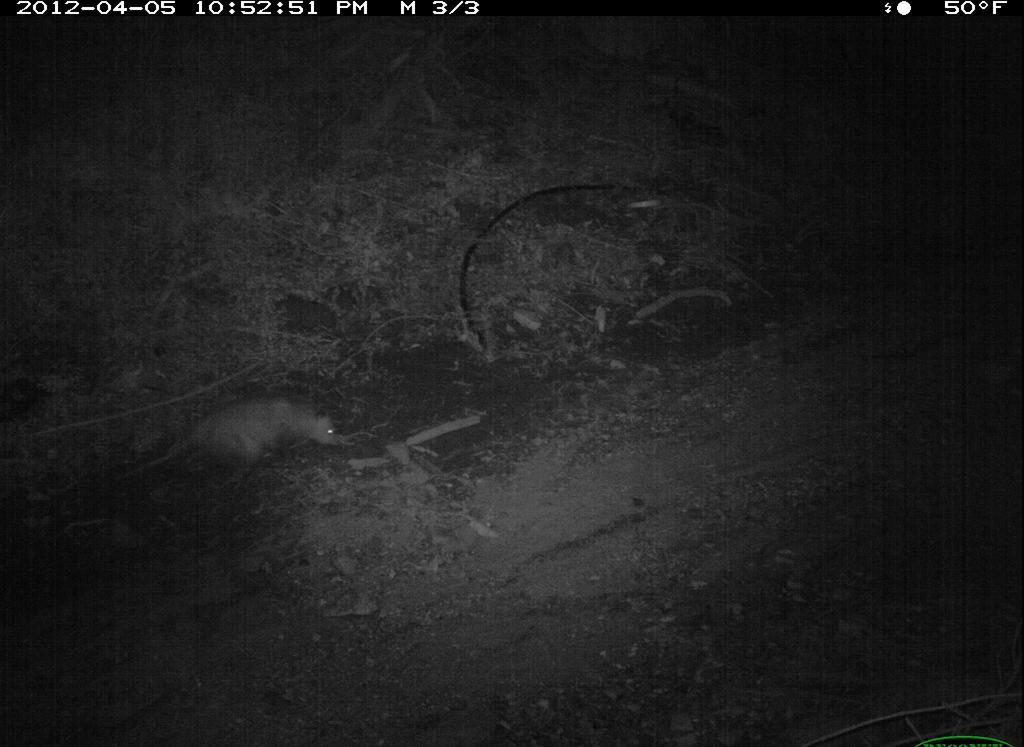opossum: (93, 379, 379, 504)
